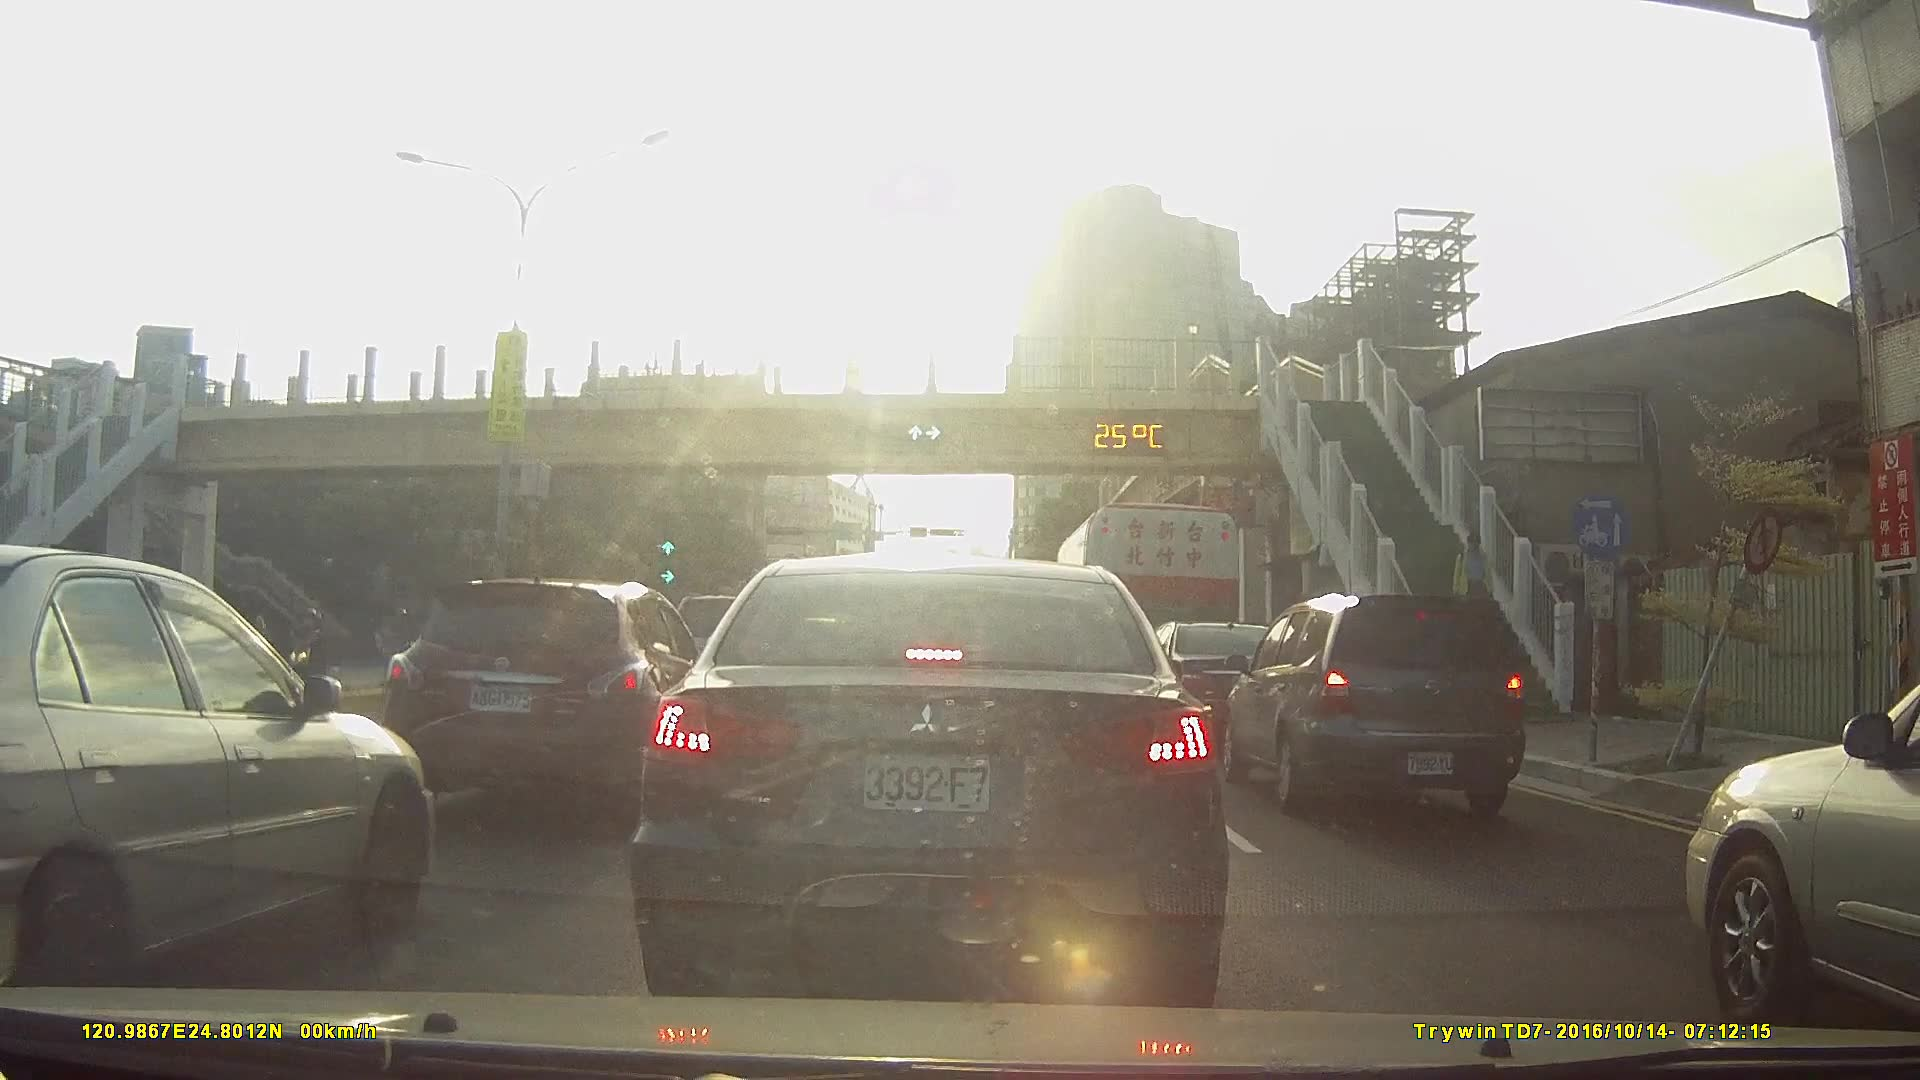pedestrian: (1450, 530, 1499, 636)
rider: (291, 609, 329, 683), (386, 609, 423, 679)
vehicle: (627, 553, 1229, 999), (0, 540, 436, 1007), (1676, 652, 1920, 1026), (389, 575, 716, 809), (1220, 590, 1543, 817), (1115, 616, 1321, 746)
